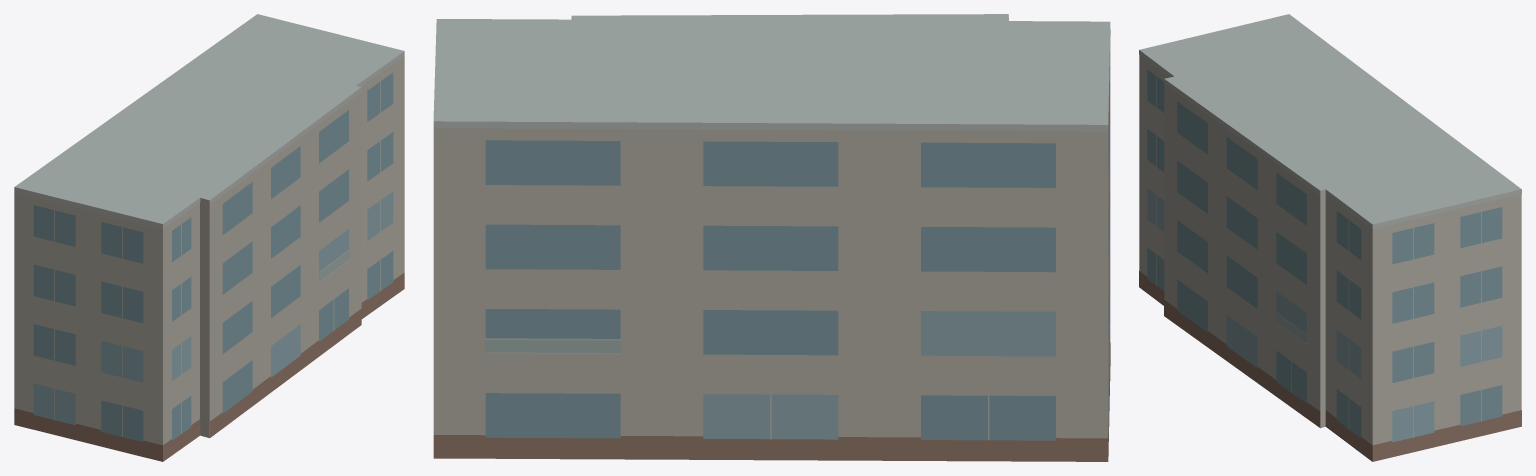
The model's file is survey-upis-32720097.glb.
3 views of the same model, side by side, from view 1: azimuth 30°, elevation 25°; view 2: azimuth 150°, elevation 25°; view 3: azimuth 270°, elevation 25° (orthographic). The views are drawn at different scales.
Parts seen in each view (by area): view 1: survey-upis-32720097.tmp; view 2: survey-upis-32720097.tmp; view 3: survey-upis-32720097.tmp.
Boxes of the visible parts, box(x1,y1,x2,y2) form: survey-upis-32720097.tmp: box(14, 14, 404, 461); survey-upis-32720097.tmp: box(433, 14, 1110, 461); survey-upis-32720097.tmp: box(1139, 14, 1521, 461).
Size of the model in its own units: 23.21 by 12.2 by 17.83.
